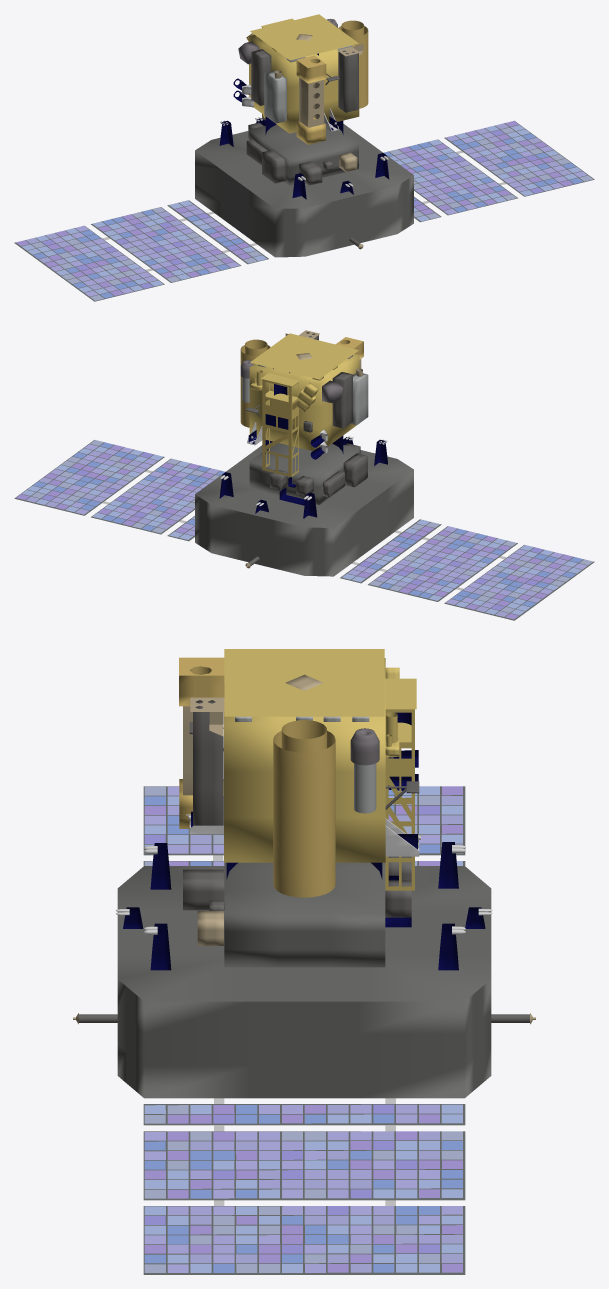
File: soho.glb
The picture shows the model from 3 angles, top to bottom: view 1: azimuth 30°, elevation 25°; view 2: azimuth 150°, elevation 25°; view 3: azimuth 270°, elevation 25°; orthographic projection. The views are drawn at different scales.
Parts seen in each view (by area): view 1: Fake; view 2: Fake; view 3: Fake.
Boxes of the visible parts, bbox=[...] form: Fake: bbox=[14, 14, 594, 301]; Fake: bbox=[14, 330, 594, 620]; Fake: bbox=[73, 649, 535, 1274].
Size of the model in its own units: 43.27 by 14.43 by 17.34.
Materials: 1 (1 with a texture image).
